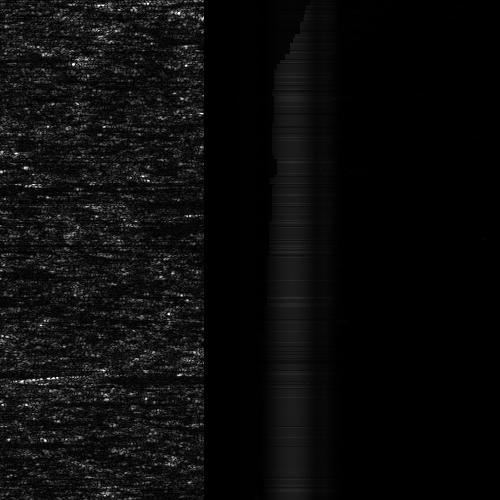object: (0, 369, 134, 384), (0, 397, 103, 406)
shadow: (0, 436, 139, 449), (51, 397, 234, 406), (0, 179, 199, 186), (51, 369, 143, 384), (0, 185, 102, 194), (0, 240, 36, 245)
